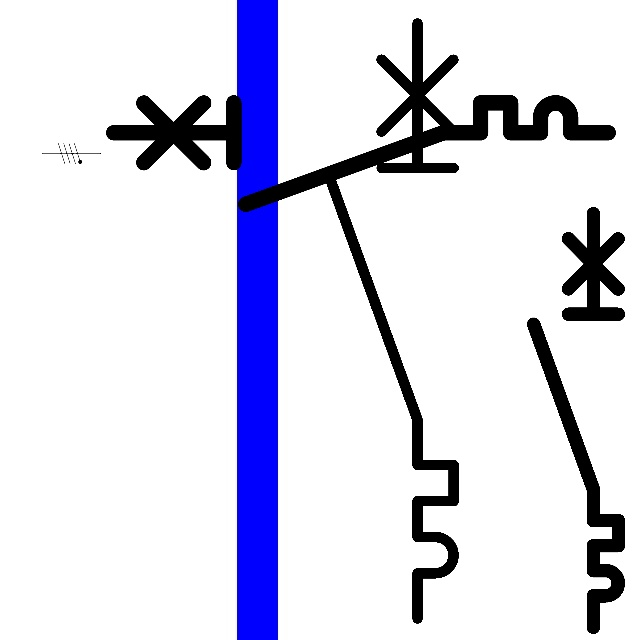interruptor_termomagnetico: (316, 8, 469, 634), (100, 90, 620, 217), (523, 203, 629, 638)
